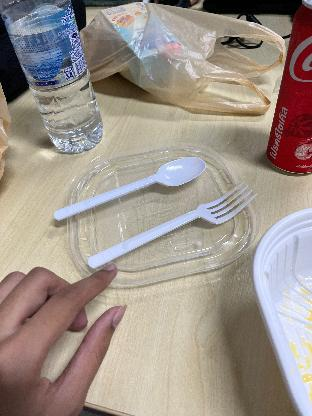Others: (88, 177, 256, 267), (54, 152, 210, 222)
Plastic Bottle: (1, 0, 106, 150)
